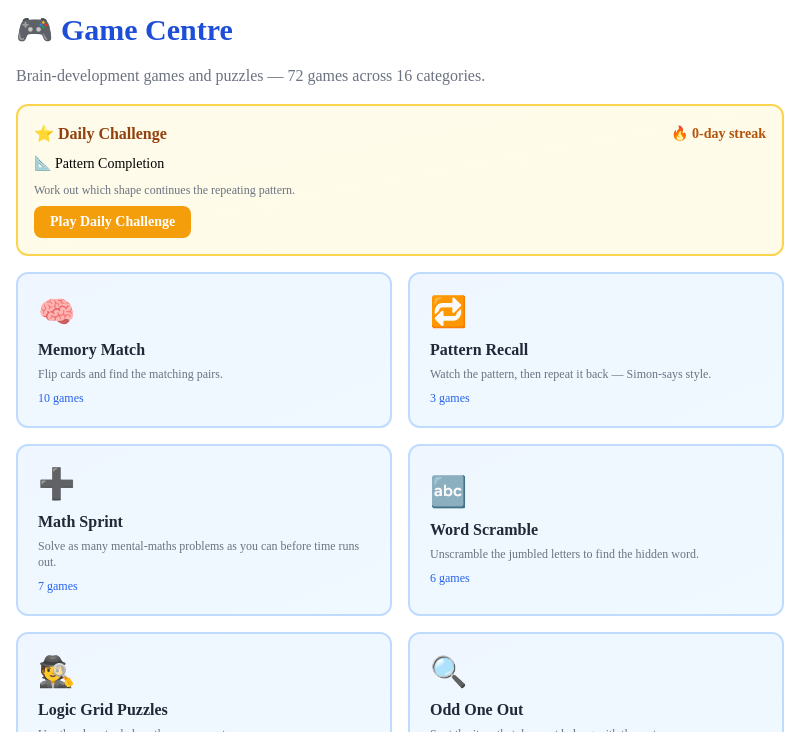
it: Games (Game Centre) › lets a difficulty change resize the Memory Match board
The image size is (801, 732).
Click the text "Memory Match".
click(92, 350)  # box [38,341,145,358]
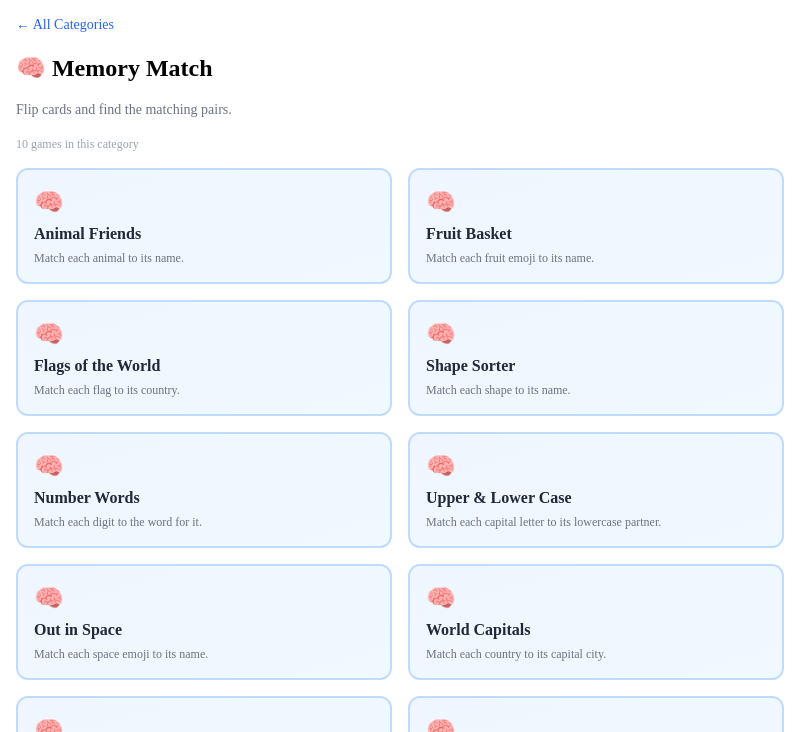
Click the text "Animal Friends".
click(88, 234)  # box [34,225,141,242]
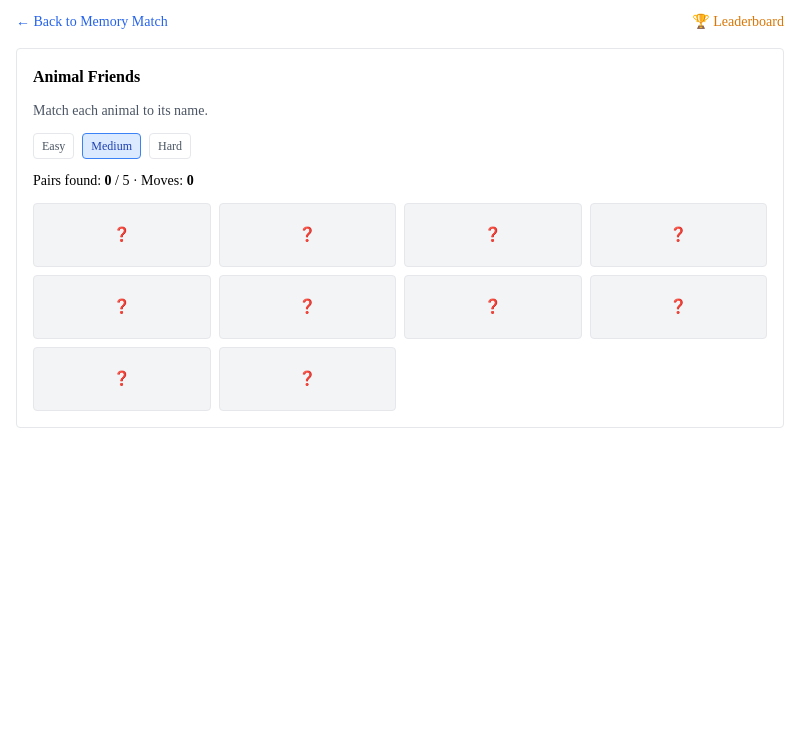
Check: the number of buttons "❓" is 10
Click the button "Easy".
click(54, 146)  # box [33,133,74,159]
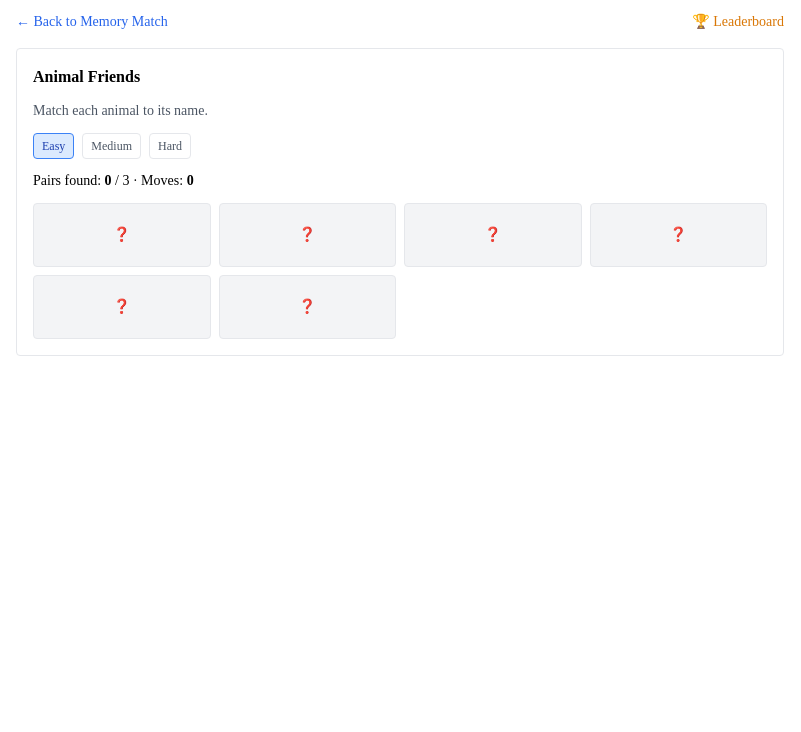
Check: the number of buttons "❓" is 6, box [33,203,210,267]; [218,203,396,267]; [404,203,582,267]; [590,203,767,267]; [33,275,210,339]; [218,275,396,339]
Click the button "Hard".
click(170, 146)  # box [149,133,191,159]
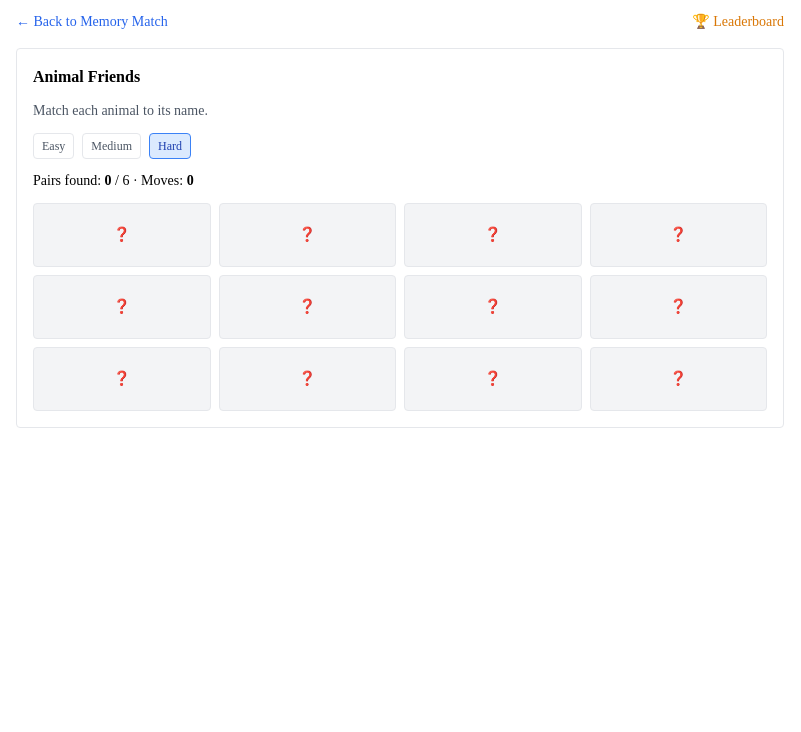
Check: the number of buttons "❓" is 12
